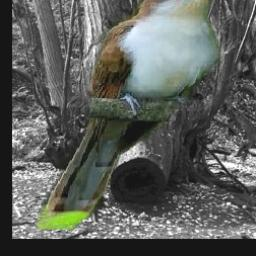Cuckoo: (38, 0, 231, 231)
